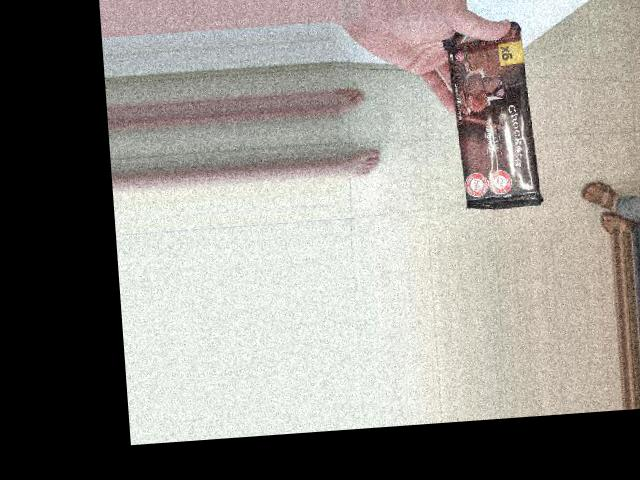chocolate: (431, 19, 548, 217)
